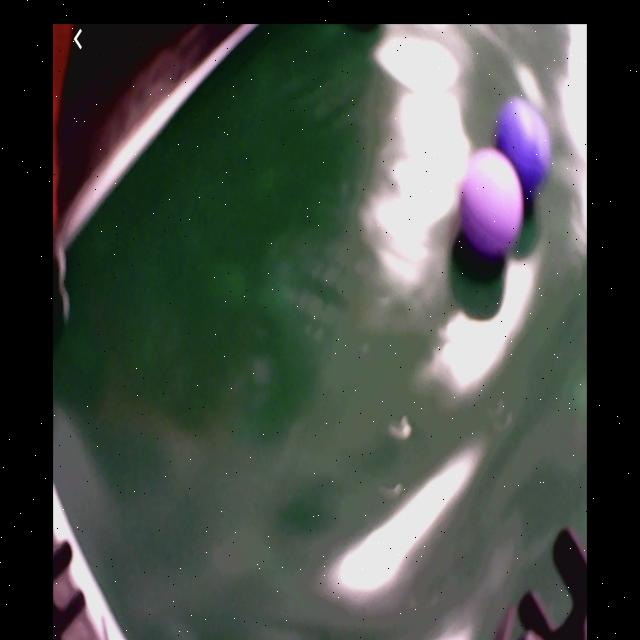ball: (461, 150, 530, 252), (493, 100, 555, 196)
